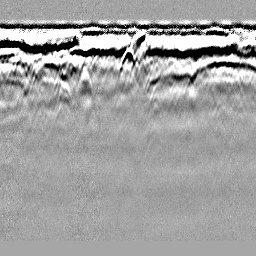cavity: (120, 47, 138, 70)
